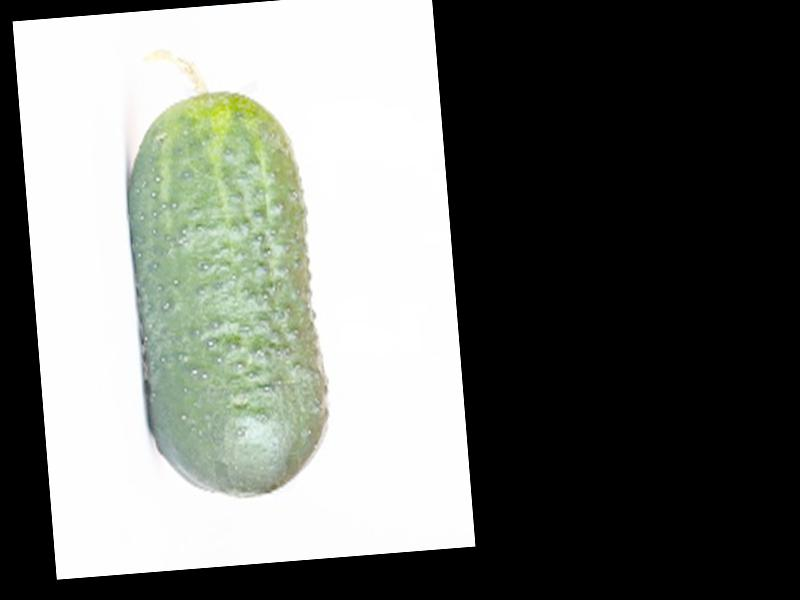Cucumber: (114, 37, 338, 502)
